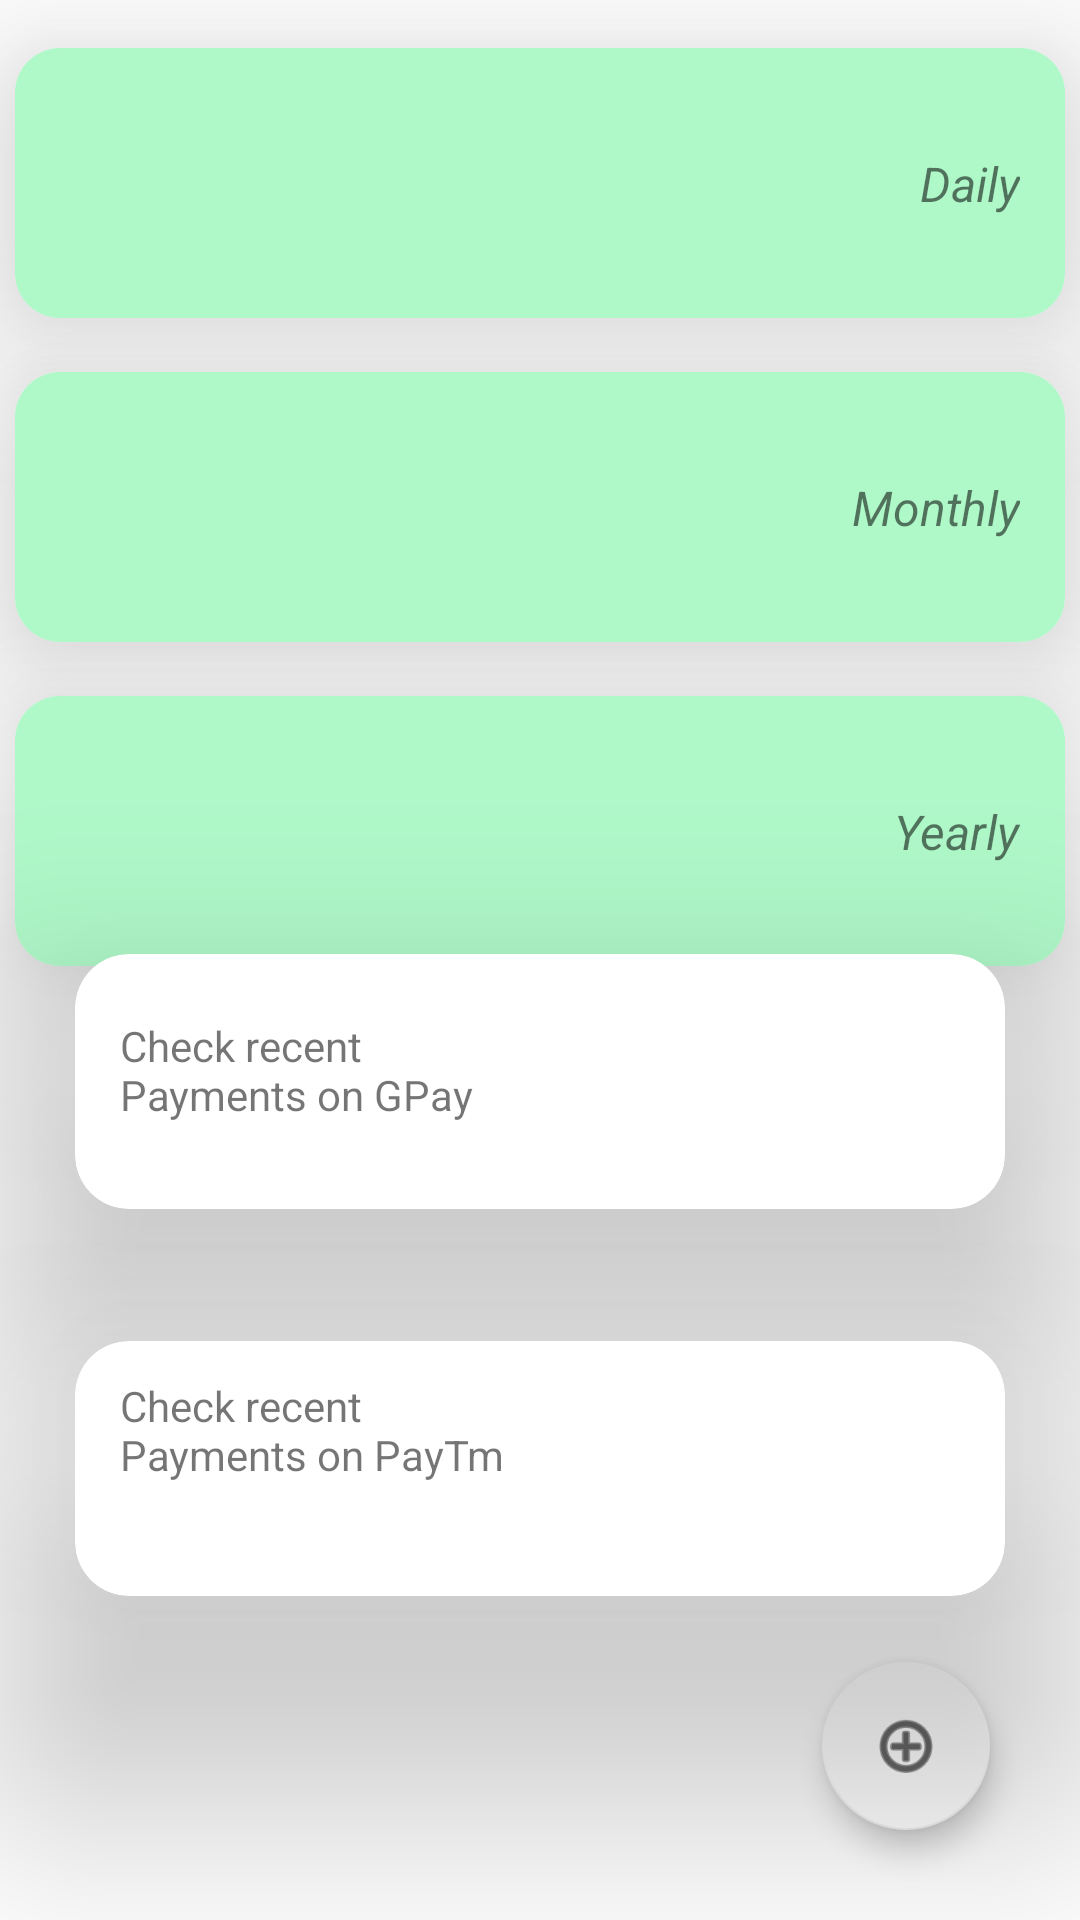

Icon click points for this 1080px x 1920px phone screenshot, format point (x, y):
add: point (906, 1768)
